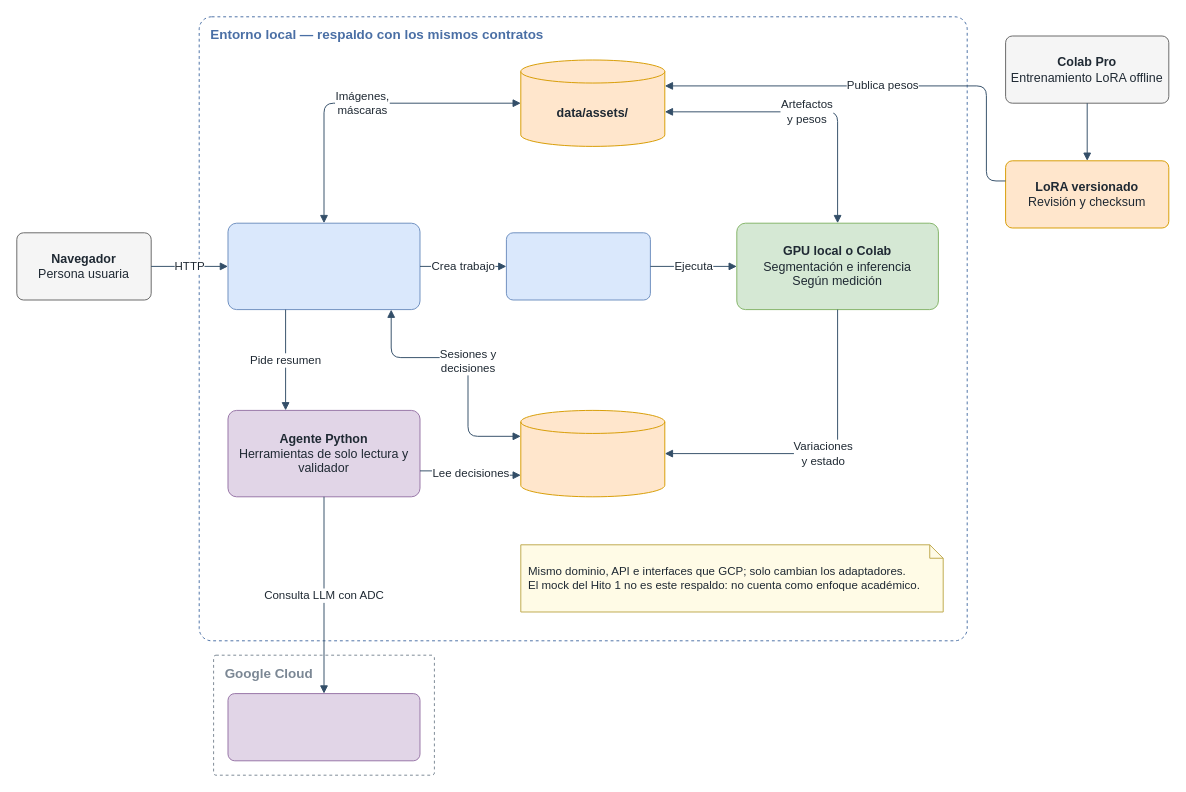
Some shapes in this 1186 by 792 pixel diagram are drawn without their labels. Here are the shapes that lost their labels. From the top down, the box of each, then its label:
(227, 222, 420, 310): Uvicorn Gradio + FastAPI API y orquestador
(505, 232, 650, 300): Ejecutor aislado En el mismo proceso
(520, 409, 665, 497): SQLite
(227, 693, 420, 761): Vertex AI Gemini — requiere internet
